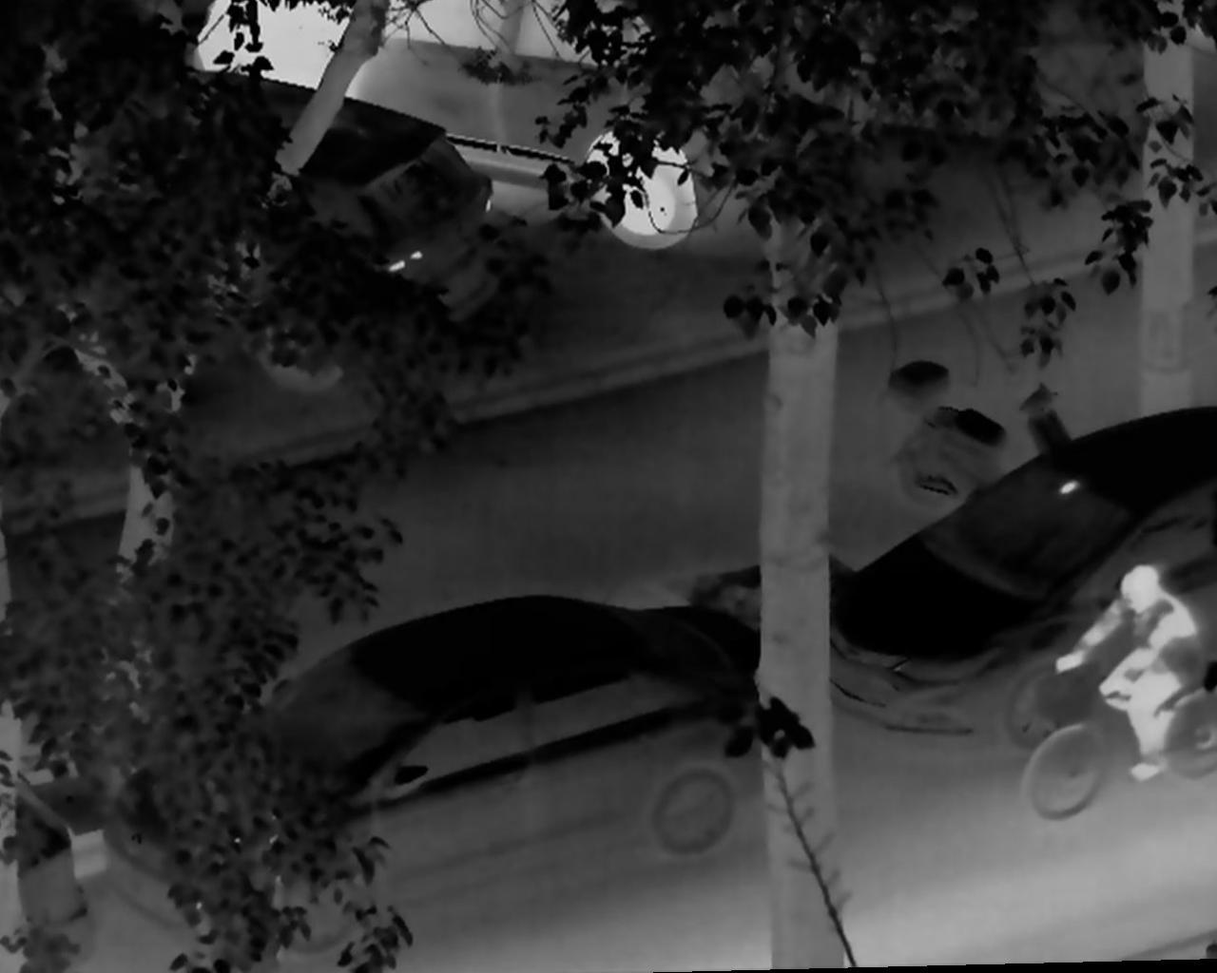person: (1055, 555, 1203, 786)
